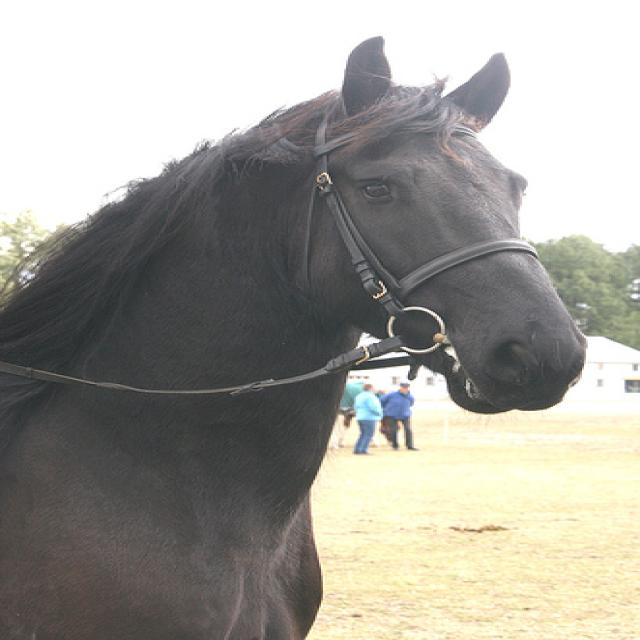horse: (1, 34, 585, 640)
person: (353, 387, 384, 456), (386, 384, 417, 452)
